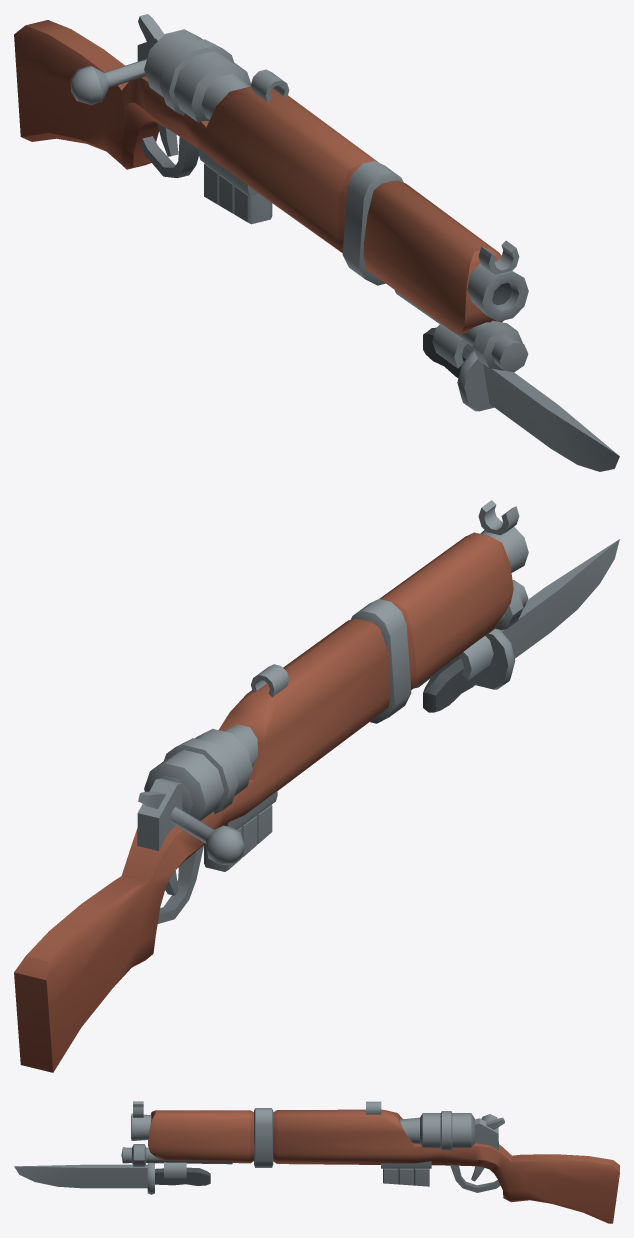
The model's file is ToySoldier_Rifle.gltf.
The picture shows the model from 3 angles, top to bottom: view 1: azimuth 30°, elevation 25°; view 2: azimuth 150°, elevation 25°; view 3: azimuth 270°, elevation 25°; orthographic projection. The views are drawn at different scales.
Visible parts, largest first — view 1: ToySoldier_Rifle; view 2: ToySoldier_Rifle; view 3: ToySoldier_Rifle.
Part boxes in pixels (box(x1,y1,x2,y2)): ToySoldier_Rifle: box(14, 14, 619, 471); ToySoldier_Rifle: box(14, 500, 619, 1072); ToySoldier_Rifle: box(14, 1101, 619, 1223).
Size of the model in its own units: 0.2907 by 0.5393 by 2.49.
Materials: 1 (1 with a texture image).
